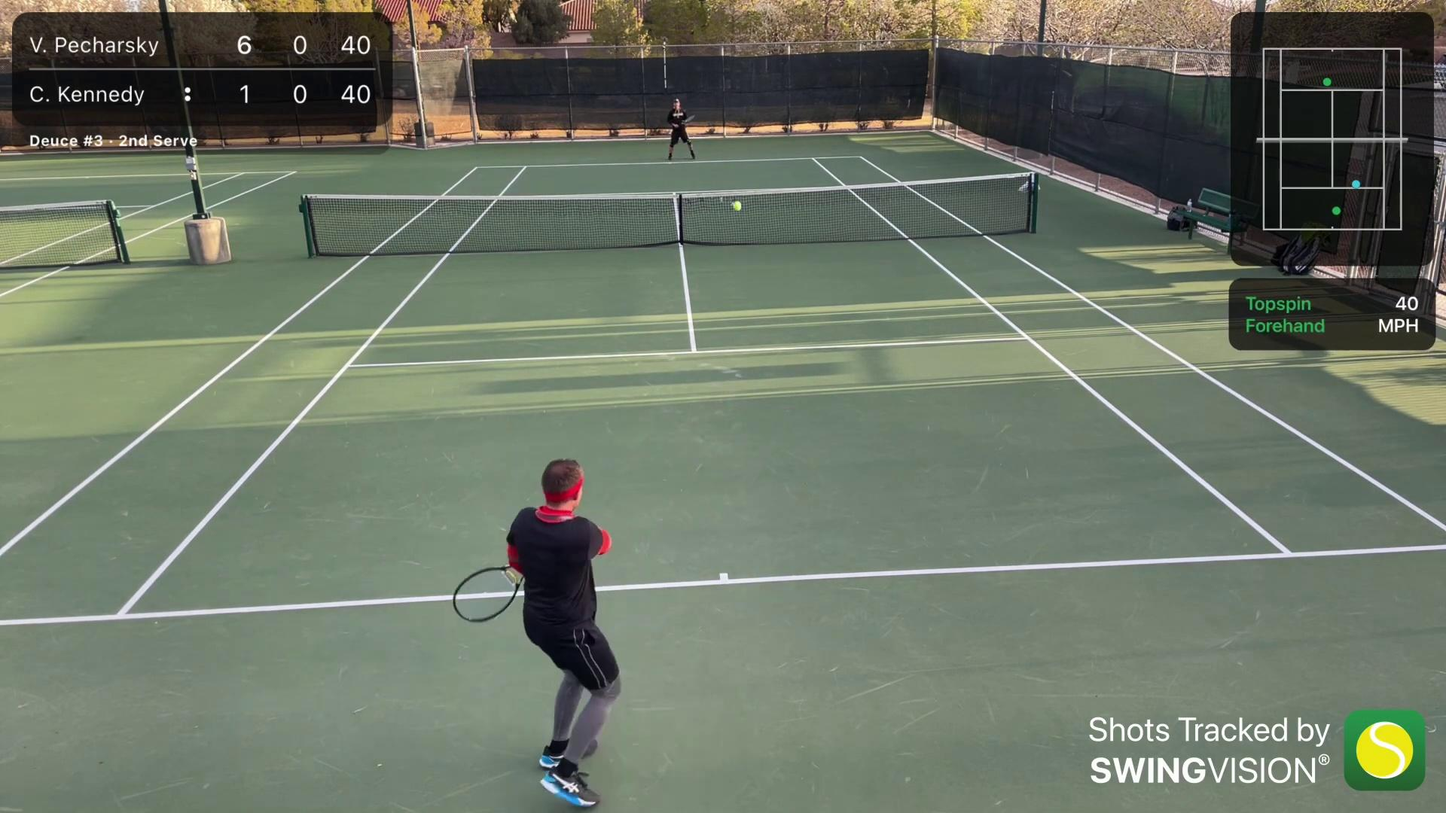ball: (732, 201, 743, 212)
